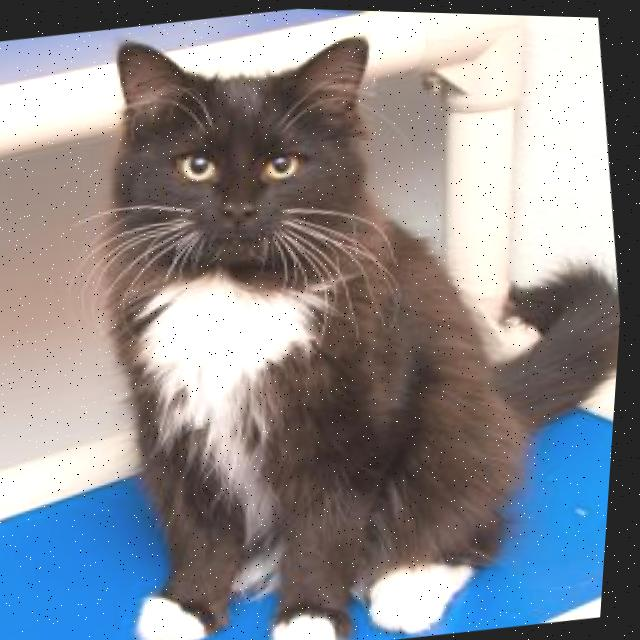Tuxedo: (42, 2, 640, 640)
